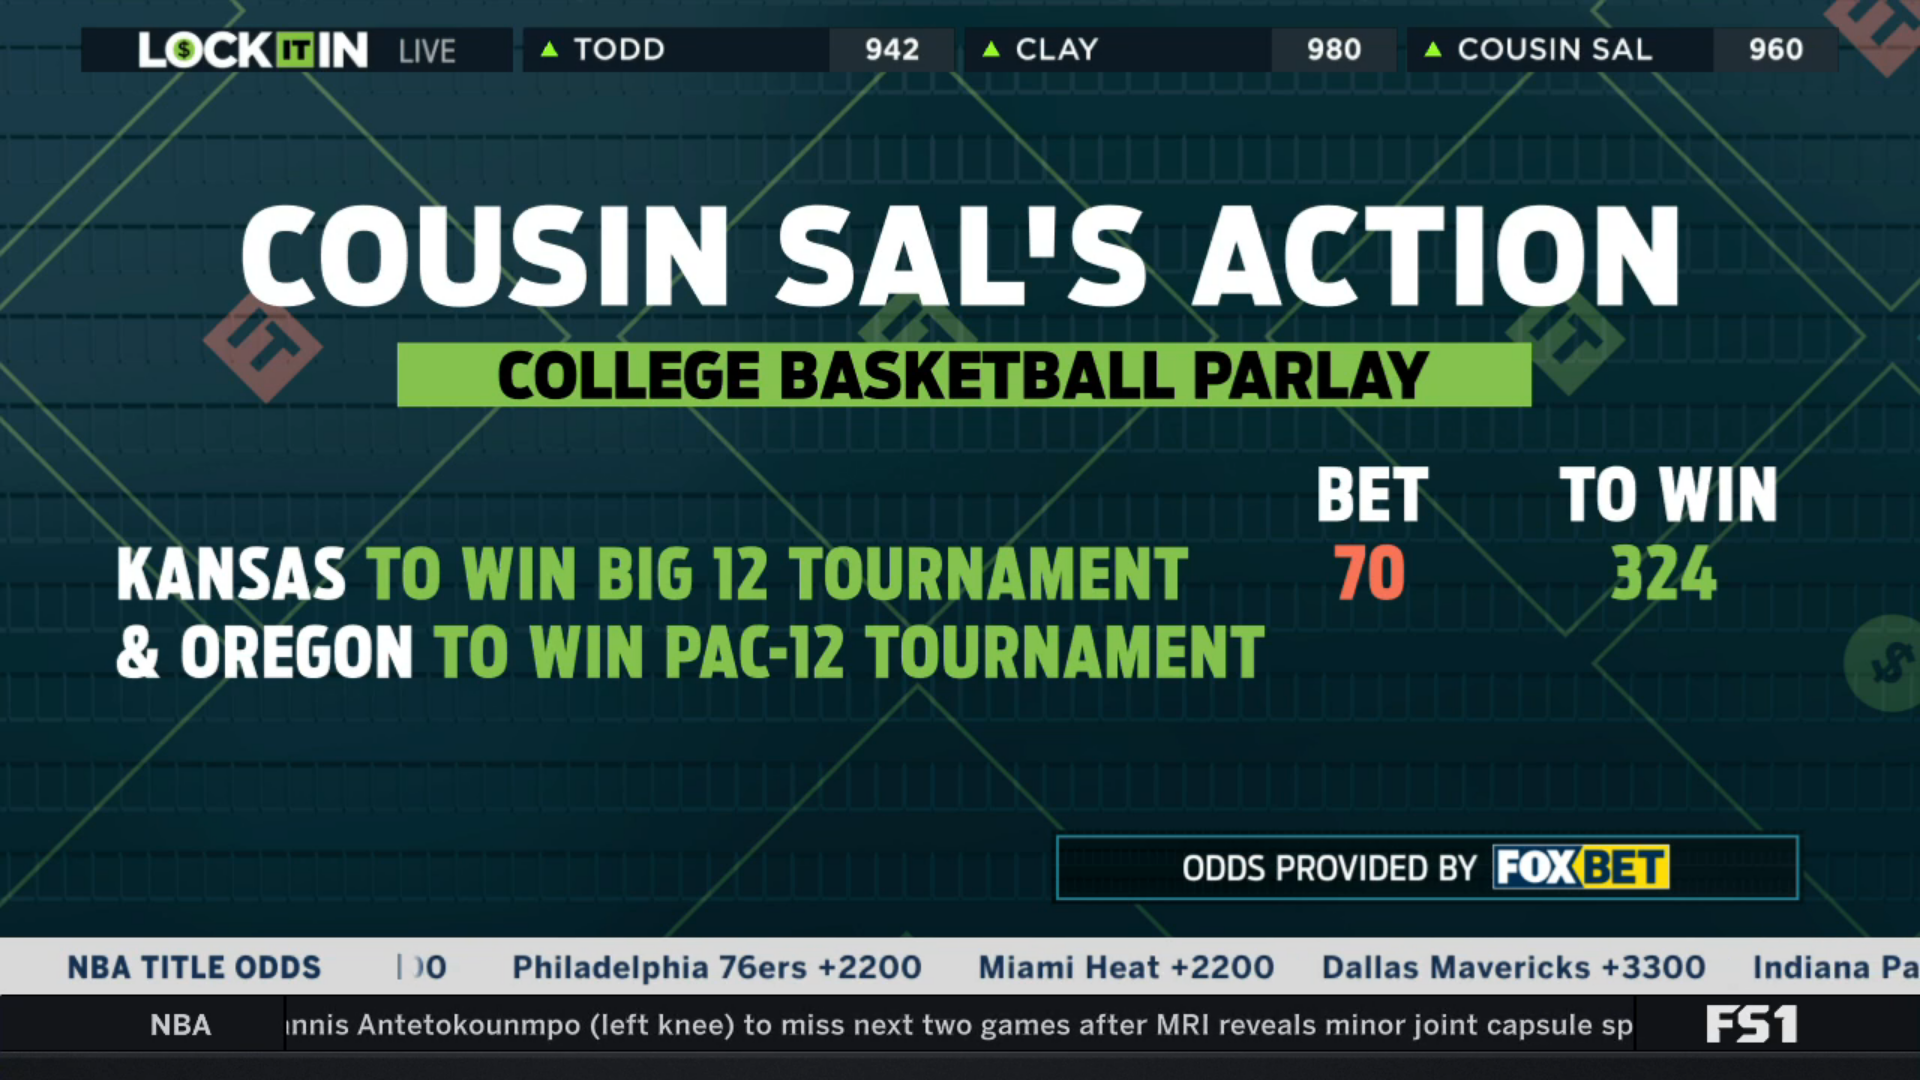Bet: (107, 533, 1275, 692)
Bet Amount: (1309, 451, 1444, 613)
Subtitle: (392, 334, 1539, 419)
Title: (236, 193, 1692, 323)
To Win: (1549, 455, 1789, 616)
Top Bar: (73, 16, 1847, 80)
